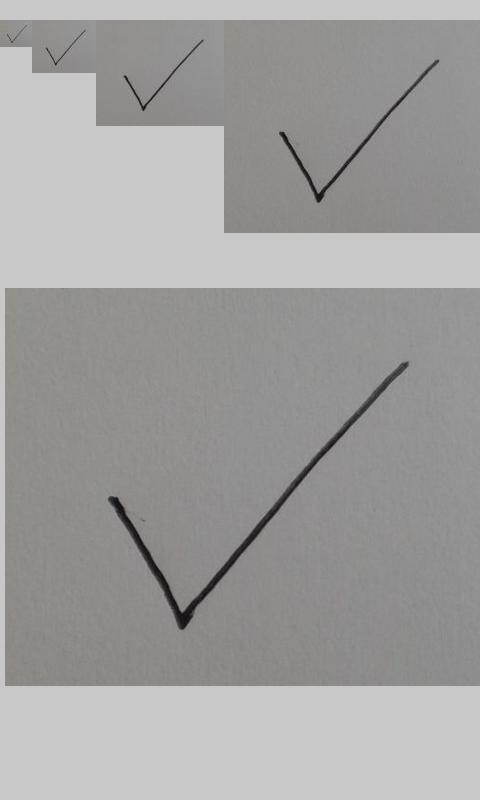check_box: (109, 362, 408, 629), (280, 60, 438, 203), (124, 40, 203, 111), (45, 29, 85, 66), (7, 25, 26, 43)
